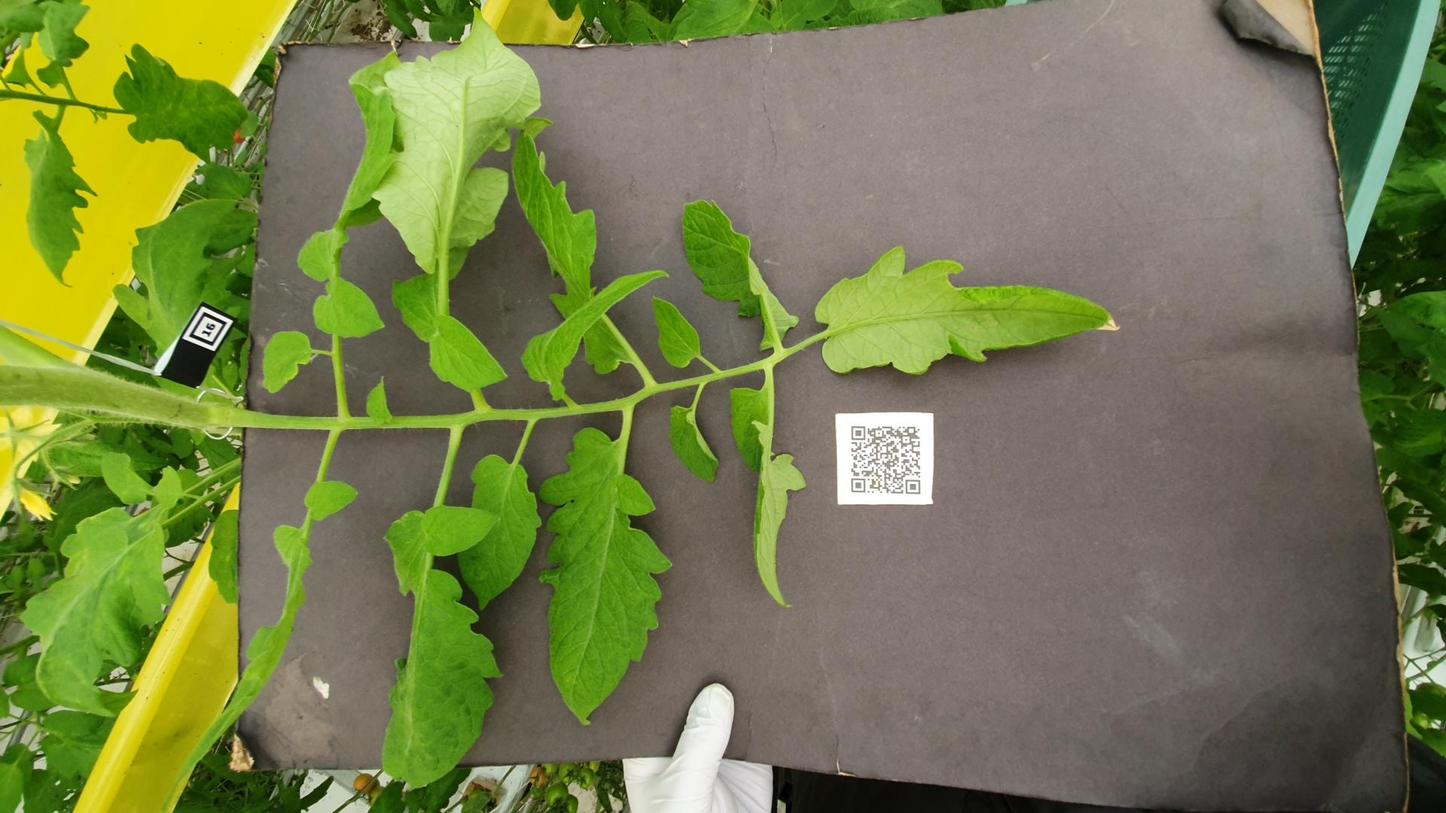Healthy: (143, 302, 692, 376), (778, 461, 1011, 633), (32, 207, 552, 280), (776, 287, 1238, 367), (803, 379, 1106, 449), (355, 408, 766, 455), (929, 12, 1251, 55), (357, 260, 664, 301), (749, 238, 881, 286), (837, 173, 962, 221), (515, 170, 594, 202)
